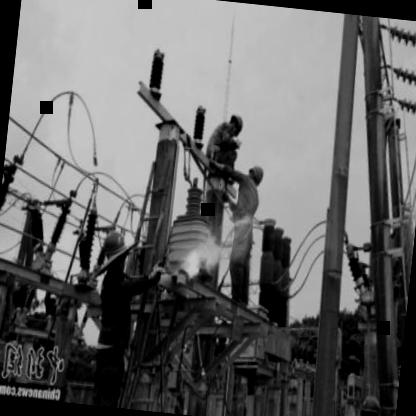helmet: (96, 223, 132, 280), (356, 391, 382, 416), (244, 162, 265, 186), (226, 112, 244, 136)
